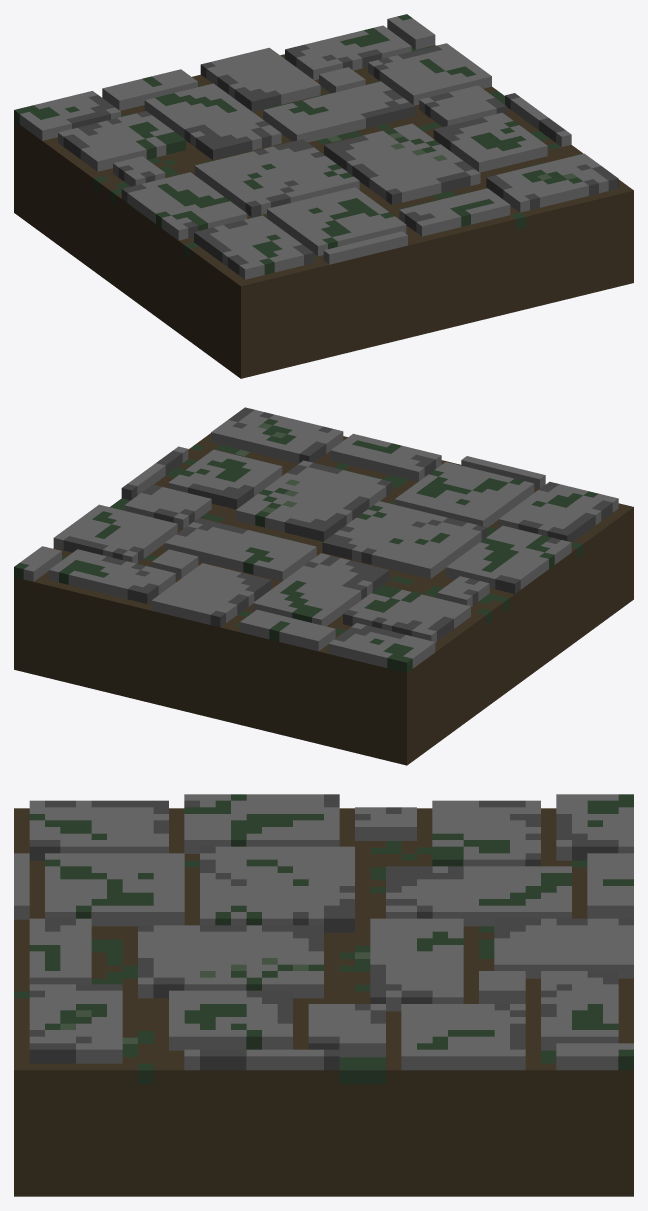
The model's file is FLOORTILE2-w.obj.
3 views of the same model, one above another, from view 1: azimuth 30°, elevation 25°; view 2: azimuth 150°, elevation 25°; view 3: azimuth 270°, elevation 25° (orthographic). The views are drawn at different scales.
Size of the model in its own units: 4 by 1 by 4.
Materials: 1 (1 with a texture image).
